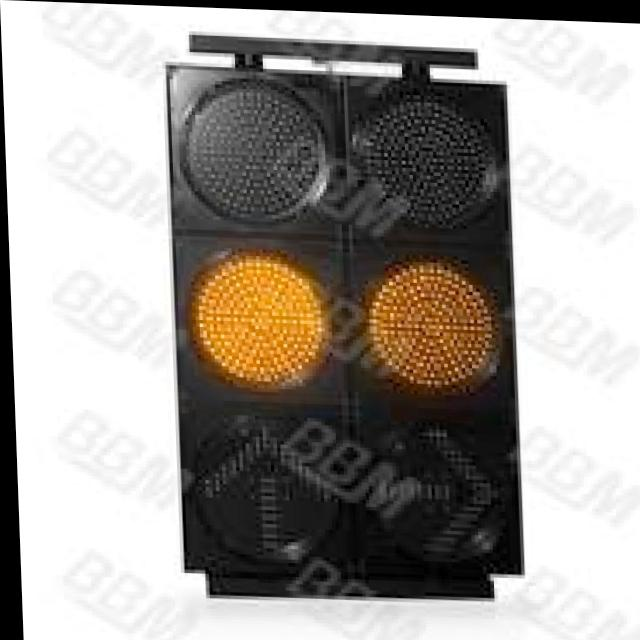yellow_light: (148, 221, 357, 411)
